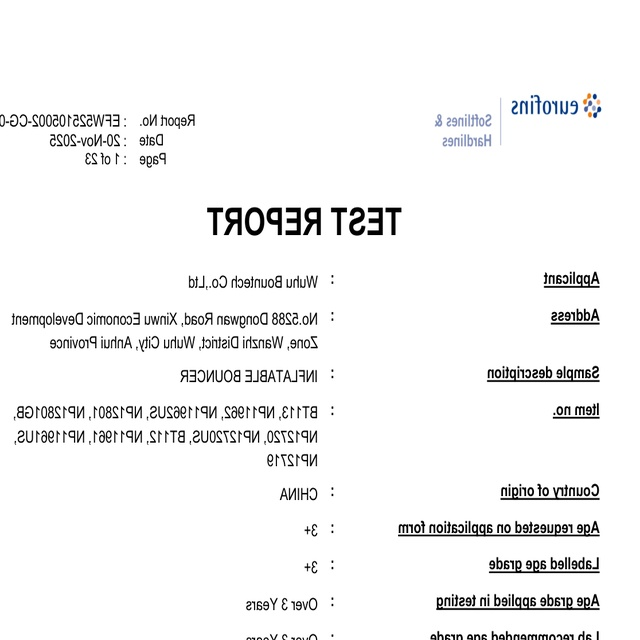eurofins: (507, 90, 607, 126)
